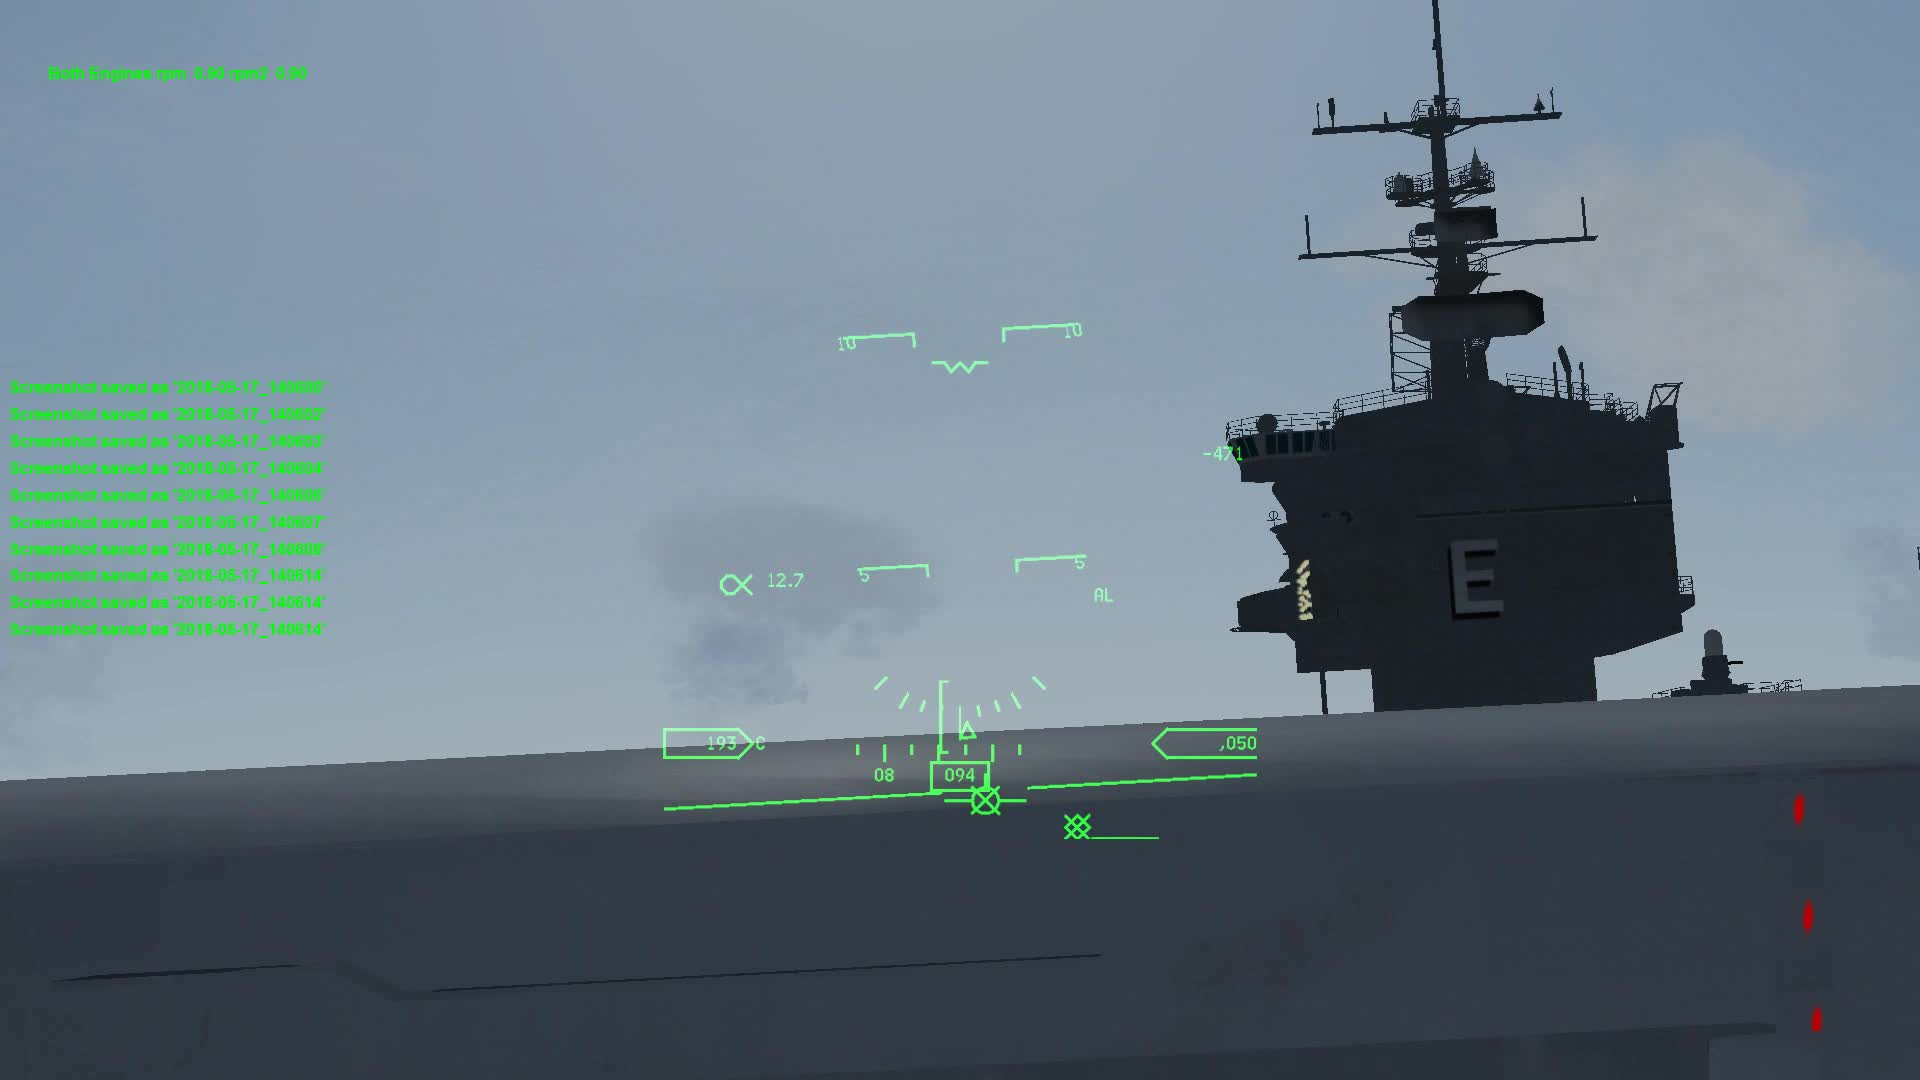speed vector: (951, 793, 1030, 824)
